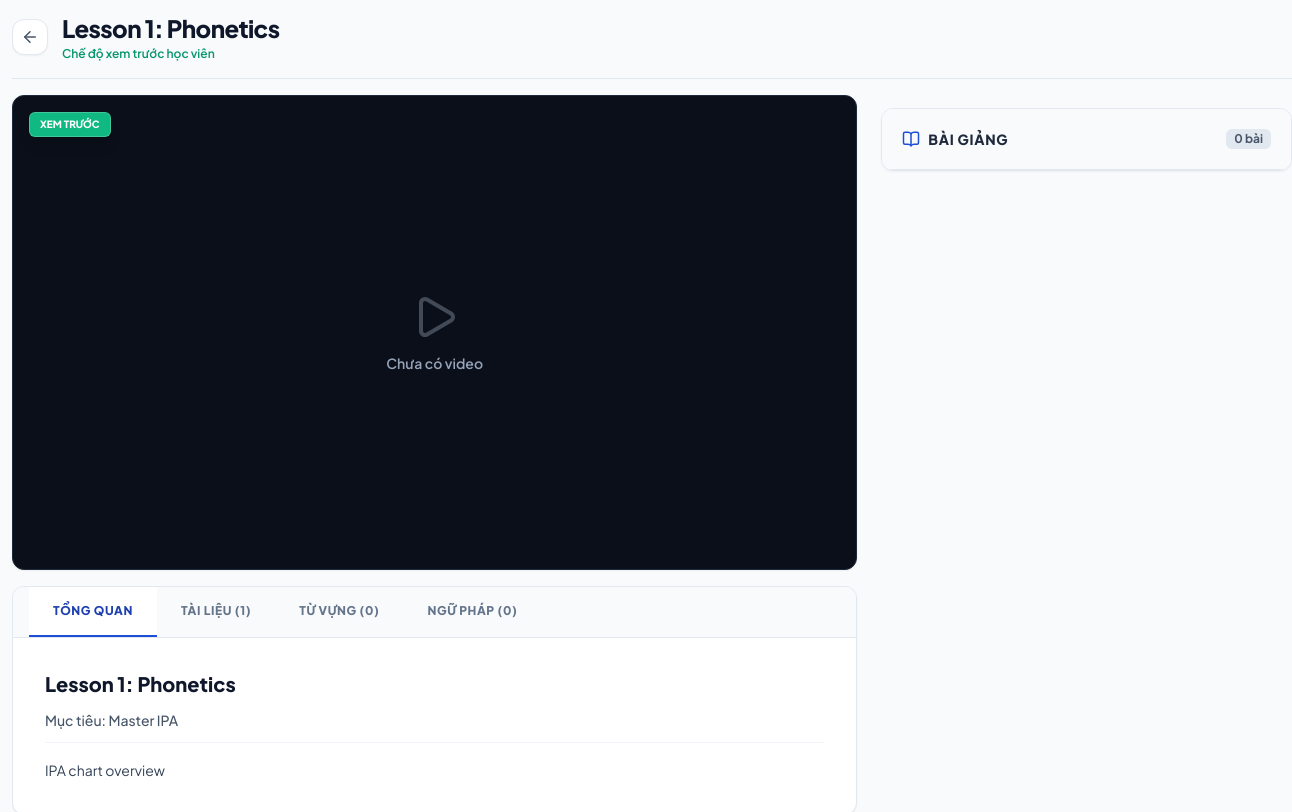
Test: Admin Module - adminApi, Components, Modals & Pages › Admin Pages & Regression Verifications › updates lesson documents state in-place on delete in AdminLessonDetailPage without reloading page
Switch to Documents tab
Click the button "Tài liệu (1)".
click(216, 612)  # box [157, 588, 275, 638]
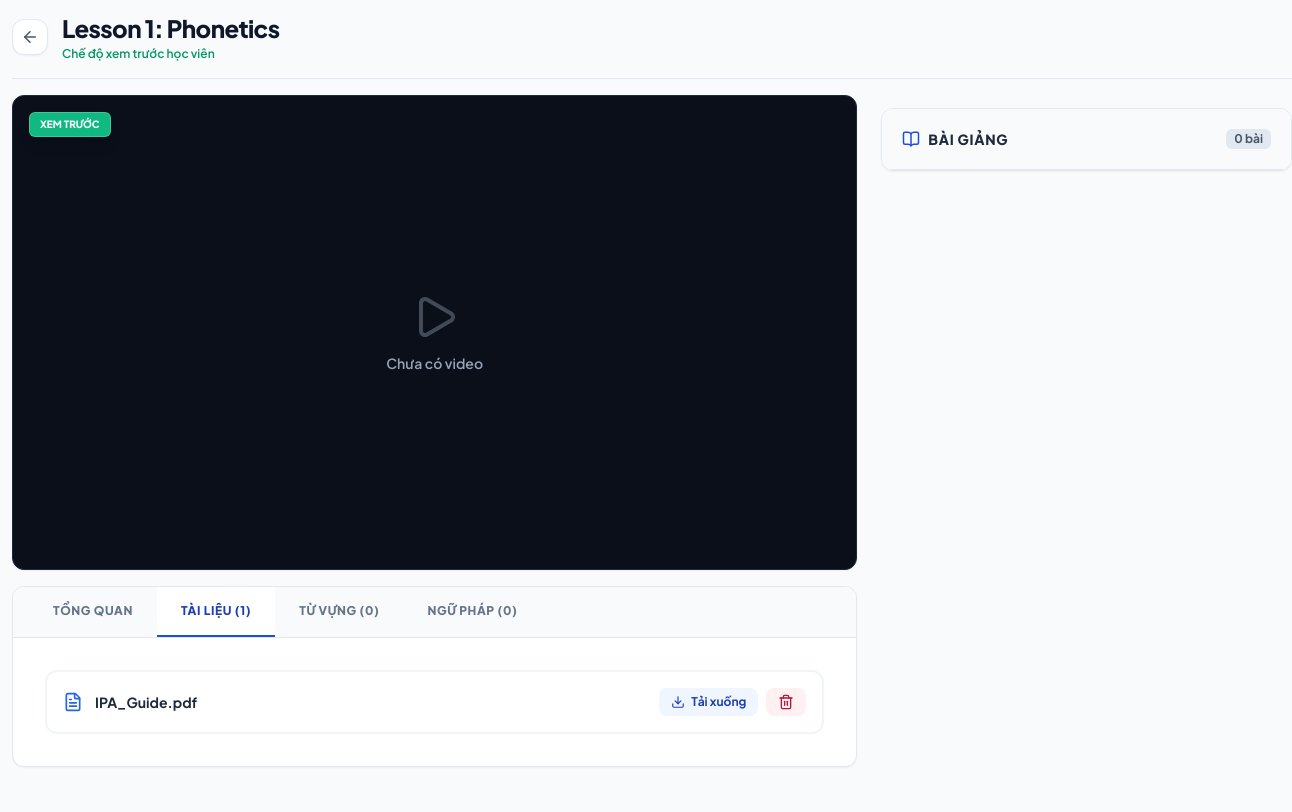
Check: the text "IPA_Guide.pdf" is shown, box [95, 692, 197, 712]
Click the button without text next to "Tải xuống".
click(786, 702)  # box [766, 688, 806, 716]
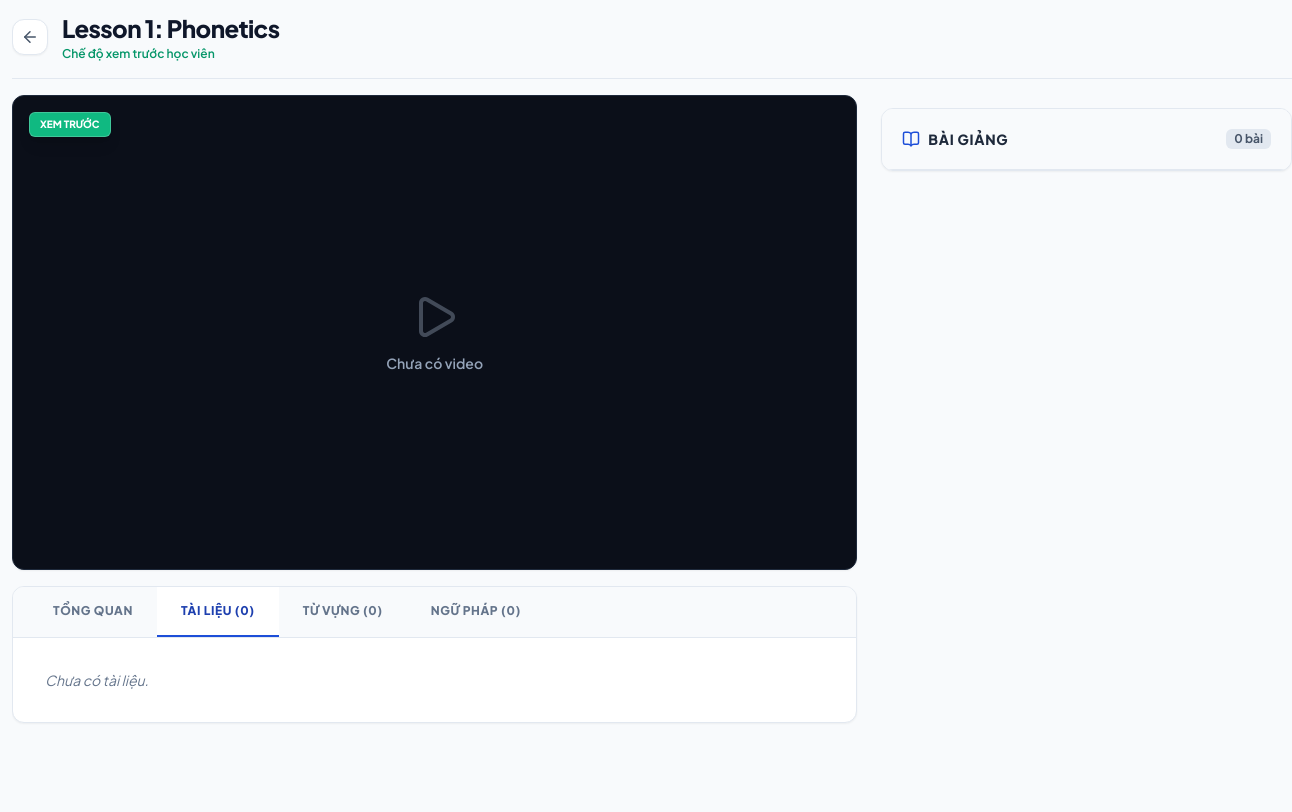
Check: the text "IPA_Guide.pdf" is gone
